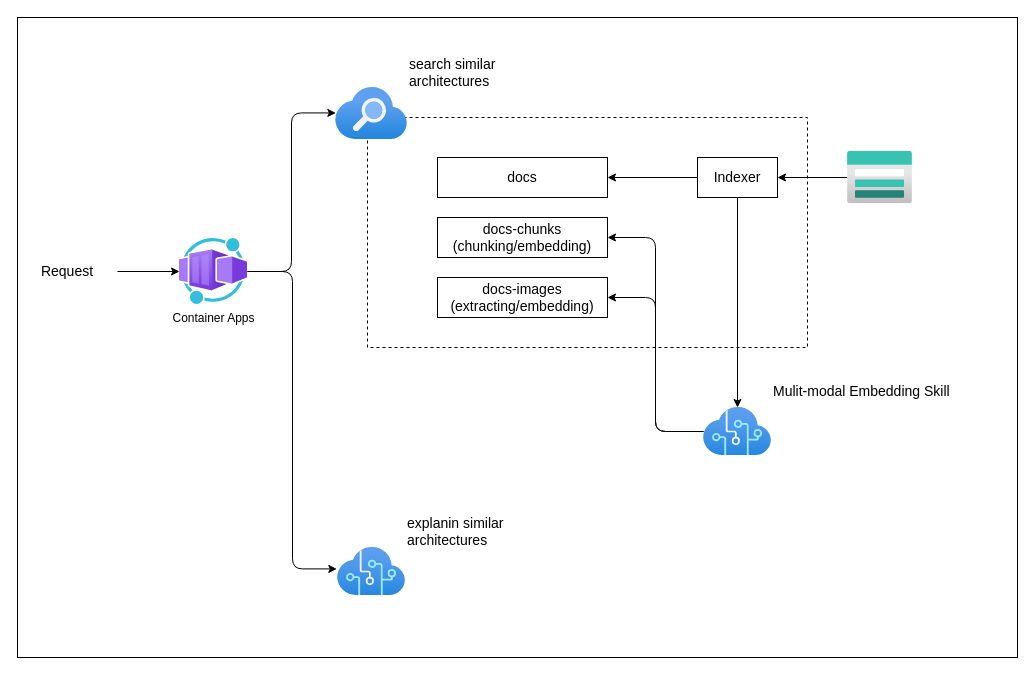
This 1035x675 diagram has some shape labels left out. Each missing label, with the box of its shape:
AI Search: (335, 87, 407, 139)
Azure OpenAI: (337, 547, 405, 595)
Cognitive Services: (703, 407, 771, 455)
